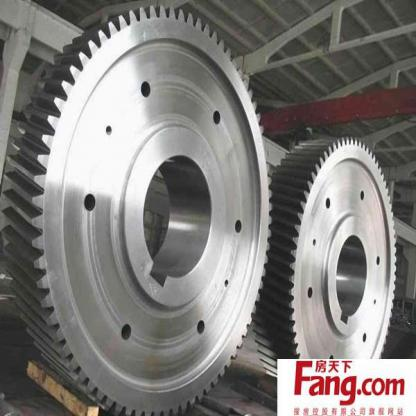FOD: (0, 4, 281, 415), (254, 126, 400, 397)
